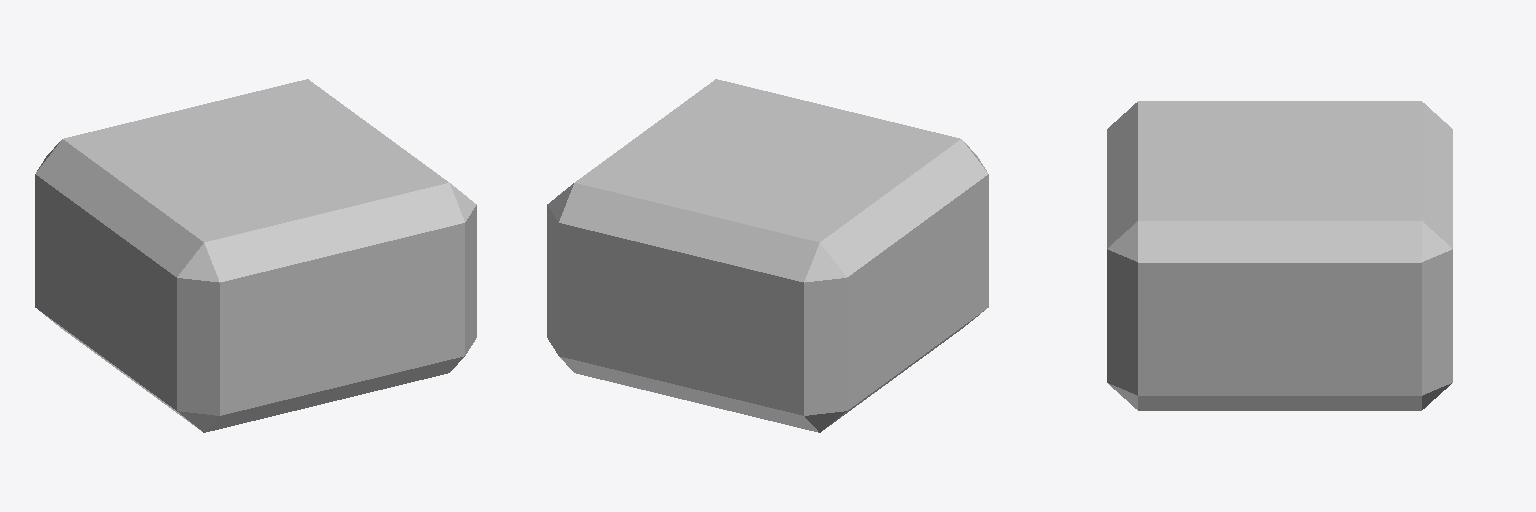
File: longrange2.obj
The picture shows the model from 3 angles: view 1: azimuth 30°, elevation 25°; view 2: azimuth 150°, elevation 25°; view 3: azimuth 270°, elevation 25°; orthographic projection.
Visible parts, largest first — view 1: pCube1; view 2: pCube1; view 3: pCube1.
Boxes of the visible parts, box(x1,y1,x2,y2) form: pCube1: box(35, 79, 476, 432); pCube1: box(547, 79, 988, 432); pCube1: box(1107, 101, 1452, 410).
Bounding box in the file's own units: 3.36 × 2.04 × 3.36.